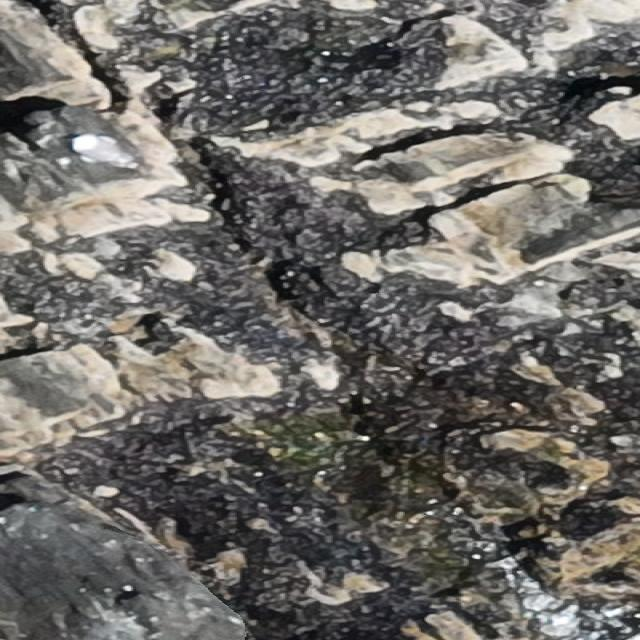umineko: (71, 135, 127, 169)
